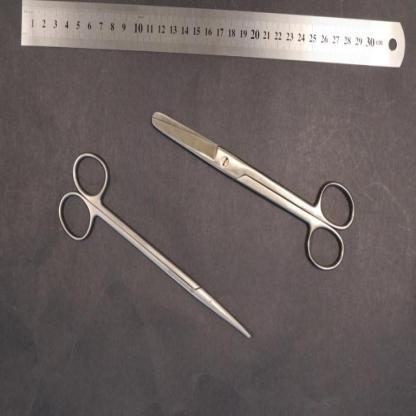7 Metzenbaum Scissors: (58, 149, 252, 339)
Dressing Scissors: (151, 111, 356, 273)
